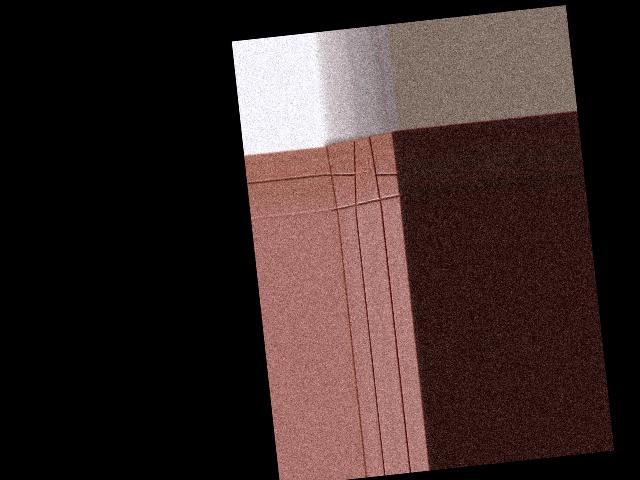chocolate: (322, 129, 404, 215)
